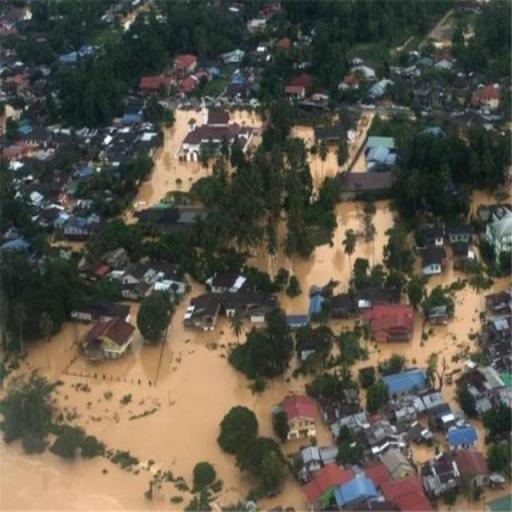flood: (0, 285, 305, 512), (354, 277, 512, 404), (249, 201, 397, 316), (122, 105, 212, 224), (308, 113, 376, 192), (427, 243, 465, 292), (257, 478, 306, 512), (454, 484, 512, 512), (428, 270, 465, 292), (471, 190, 499, 218), (291, 125, 318, 150), (316, 417, 334, 447), (233, 113, 263, 128), (330, 318, 358, 333), (287, 442, 296, 454), (280, 225, 286, 240), (506, 196, 512, 204), (410, 234, 414, 244)
house: (302, 465, 354, 512), (84, 320, 136, 364), (370, 302, 415, 344), (386, 470, 431, 511), (281, 396, 317, 442), (186, 290, 223, 333), (456, 446, 488, 492), (423, 458, 455, 500), (388, 369, 426, 398), (381, 447, 415, 478), (488, 210, 512, 252), (474, 83, 500, 111), (449, 426, 477, 451), (172, 52, 198, 78), (181, 131, 201, 162), (422, 247, 444, 275), (123, 262, 146, 285), (366, 146, 389, 169), (64, 216, 89, 236), (449, 226, 474, 242), (287, 84, 306, 100)
